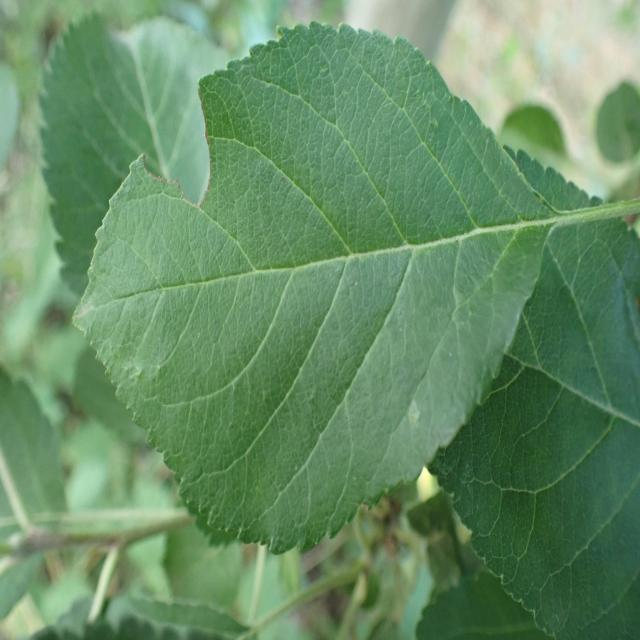healthy: (70, 18, 556, 554), (424, 146, 640, 640), (36, 9, 235, 299)
